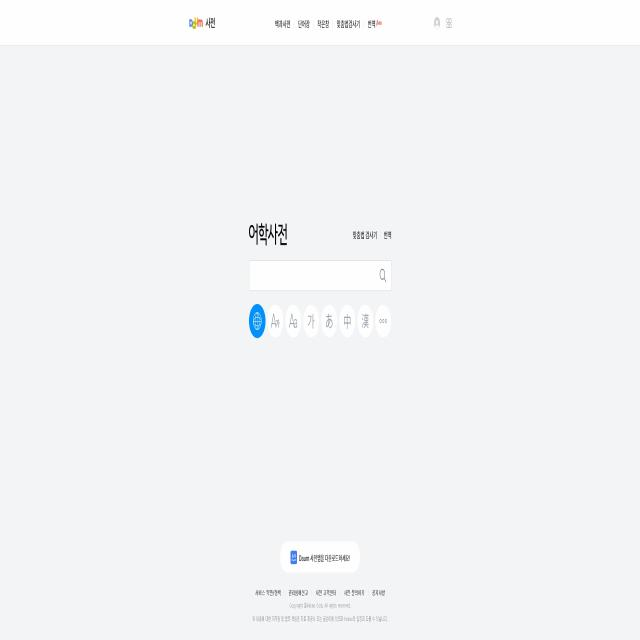menu-bar: (427, 11, 458, 34)
search: (248, 255, 393, 296)
tab-bar: (267, 7, 387, 39)
